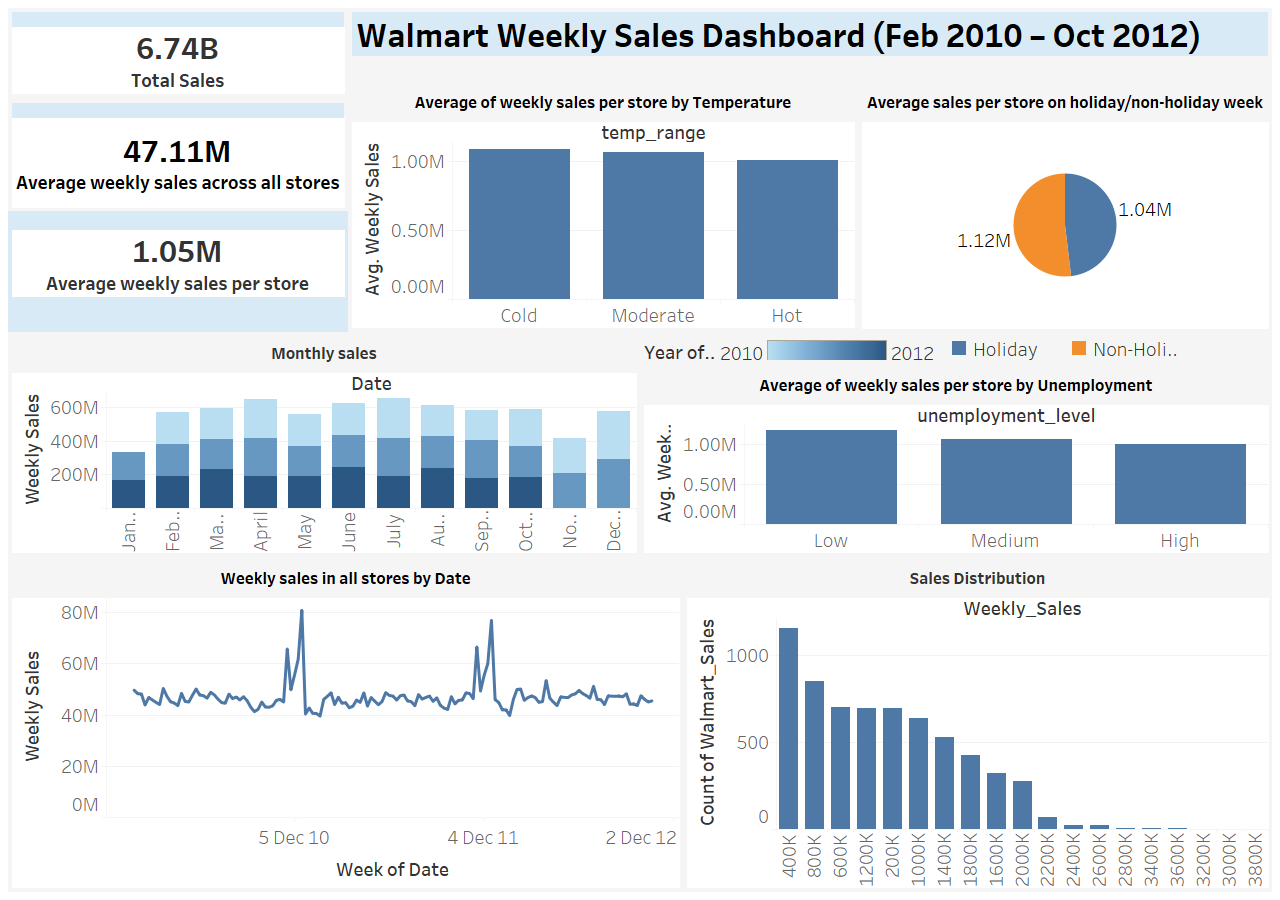

The page's visual inventory and layout, read from the dashboard file:
{"tool":"tableau","page":{"name":"Walmart_sales_Dashboard ","canvas":[1280,900],"ordinal":0},"visuals":[{"type":"worksheet","title":"Total sales","mark":"Automatic","box":[8,8,340,89]},{"type":"text","box":[348,8,924,52]},{"type":"worksheet","title":"Avg_Sales_Temp","mark":"Automatic","rows":["Weekly_Sales"],"cols":["Calculation_3035989117328347146"],"box":[348,81.3,509.7,250.7]},{"type":"worksheet","title":"Avg_Sales_Holiday","mark":"Pie","box":[857.7,81.3,414.3,250.7]},{"type":"worksheet","title":"Average_weekly_sales","mark":"Automatic","box":[8,99,340,112]},{"type":"worksheet","title":"Avg_weekly_sales_per_store","mark":"Automatic","box":[8,210.9,340,89]},{"type":"worksheet","title":"Monthly Sales","mark":"Bar","rows":["Weekly_Sales"],"cols":["Date"],"box":[8,332,632,225.1]},{"type":"legend","title":"Monthly Sales","param":"[federated.0oula2b09824g71f0uaqi0s1se9o].[tyr:Date:qk]","box":[640,332,303,32]},{"type":"legend","title":"Avg_Sales_Holiday","param":"[federated.0oula2b09824g71f0uaqi0s1se9o].[none:Calculation_3035989117326200840:n","box":[943,332,329,32]},{"type":"worksheet","title":"Avg Sales by Unemployment","mark":"Automatic","rows":["Weekly_Sales"],"cols":["Calculation_3035989117328855051"],"box":[640,364,632,193.1]},{"type":"worksheet","title":"Total_Weekly_Sales","mark":"Automatic","rows":["Weekly_Sales"],"cols":["Date"],"box":[8,557.1,675,334.9]},{"type":"worksheet","title":"Sales Distribution","mark":"Automatic","rows":["Walmart!Sales_8BC8EC3713134DB2A262425768AE4DF5"],"cols":["Weekly Sales (bin)"],"box":[683,557.1,589,334.9]}]}

Visuals, with their boxes in screenshot pixels (x1, y1, x2, y2), scaled from the page's 1280x900 canvas onto the 1280x900 screenshot:
"Total sales" worksheet: region(8, 8, 348, 97)
text: region(348, 8, 1272, 60)
"Avg_Sales_Temp" worksheet: region(348, 81, 858, 332)
"Avg_Sales_Holiday" worksheet (Pie marks): region(858, 81, 1272, 332)
"Average_weekly_sales" worksheet: region(8, 99, 348, 211)
"Avg_weekly_sales_per_store" worksheet: region(8, 211, 348, 300)
"Monthly Sales" worksheet (Bar marks): region(8, 332, 640, 557)
"Monthly Sales" legend: region(640, 332, 943, 364)
"Avg_Sales_Holiday" legend: region(943, 332, 1272, 364)
"Avg Sales by Unemployment" worksheet: region(640, 364, 1272, 557)
"Total_Weekly_Sales" worksheet: region(8, 557, 683, 892)
"Sales Distribution" worksheet: region(683, 557, 1272, 892)
